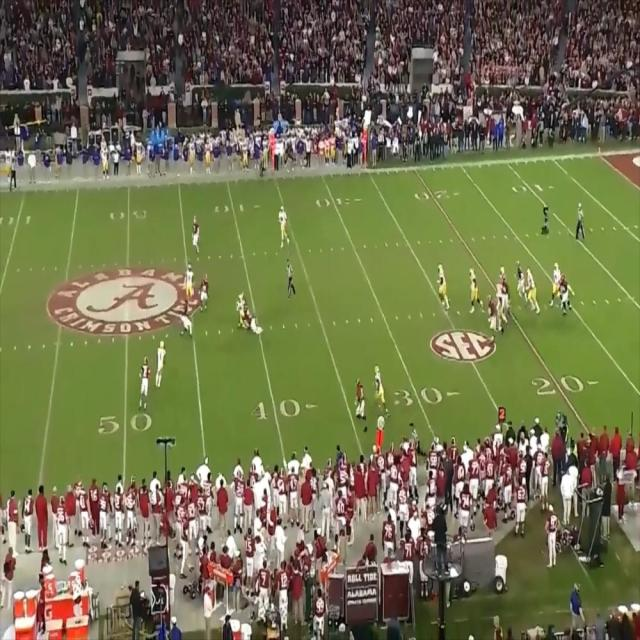db: (140, 360, 150, 412), (183, 294, 194, 332), (245, 311, 260, 332), (192, 216, 199, 252)
lb: (356, 378, 365, 428), (200, 272, 210, 310)
qb: (550, 263, 562, 308)
skill: (376, 367, 388, 413), (156, 340, 167, 384), (236, 292, 248, 330), (184, 265, 193, 306), (279, 205, 288, 245)
